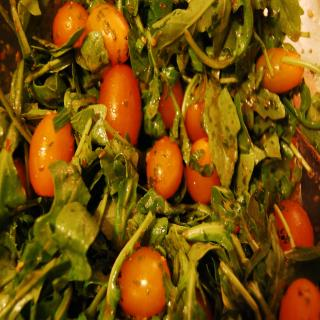tomato: (96, 61, 142, 149), (27, 111, 72, 200), (116, 247, 174, 316), (146, 136, 184, 209), (85, 4, 128, 63), (185, 139, 223, 204), (52, 1, 90, 61), (252, 46, 306, 87), (275, 201, 314, 252), (278, 278, 320, 320), (182, 84, 212, 140), (156, 75, 184, 134)
